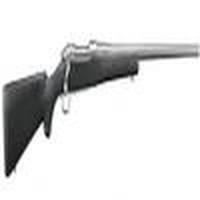gun: (3, 39, 200, 165)
